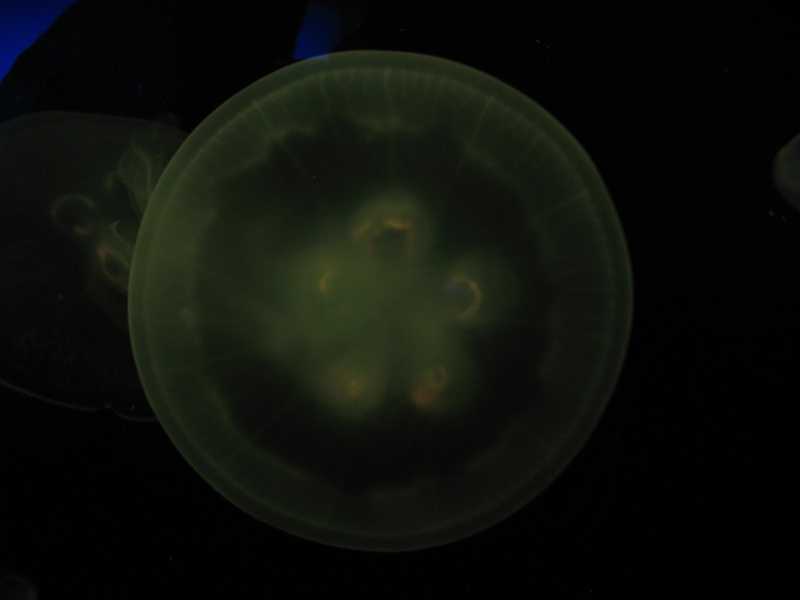Jellyfish: (145, 19, 659, 541)
